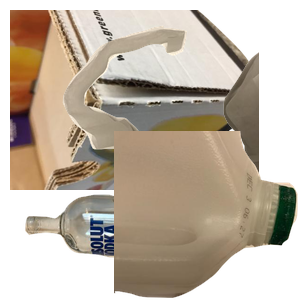cardboard: (10, 10, 250, 190)
glass: (22, 192, 234, 300)
plastic: (114, 131, 300, 300)
trash: (60, 23, 300, 203)
